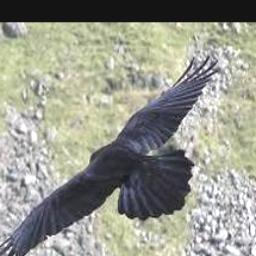Crow: (0, 56, 220, 256)
